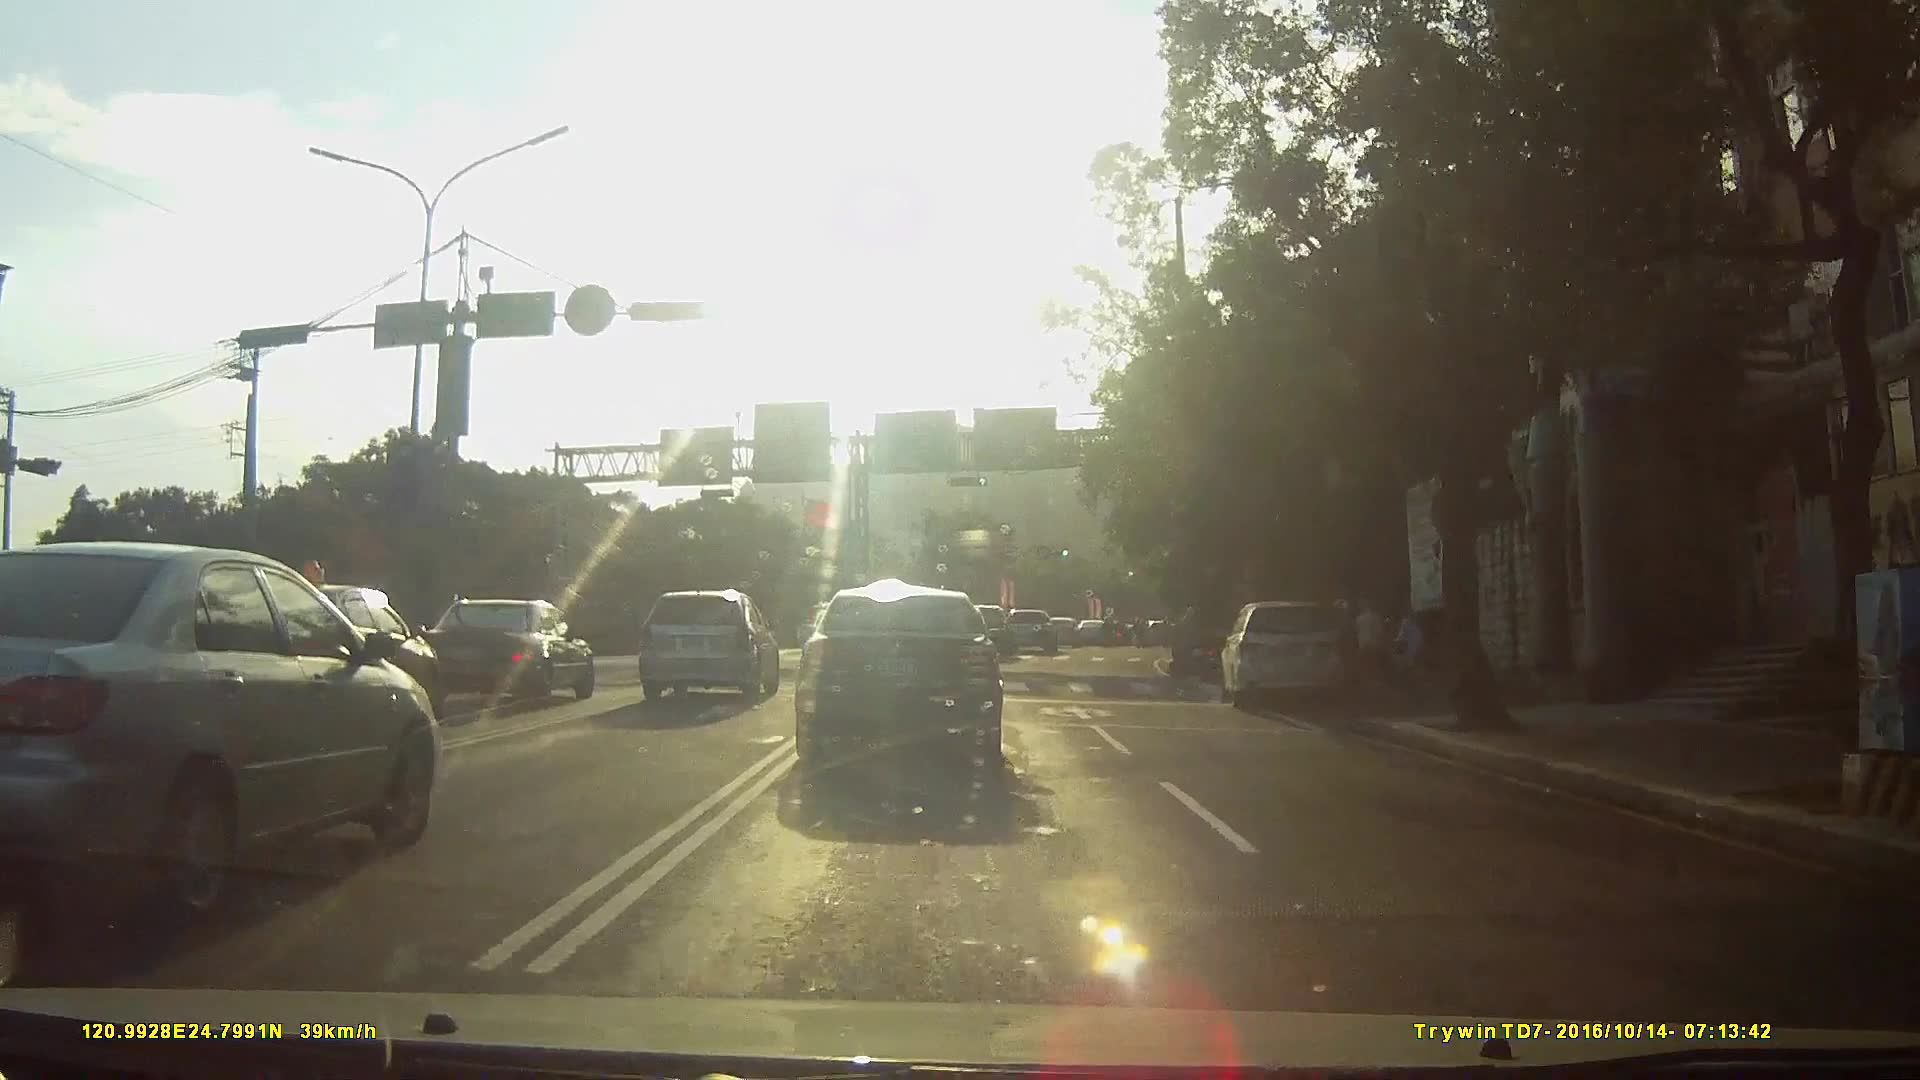pedestrian: (1353, 603, 1394, 665), (1399, 617, 1435, 684)
rider: (1170, 604, 1227, 683)
vehicle: (0, 540, 447, 923), (795, 593, 1027, 794), (405, 598, 601, 711), (1214, 600, 1368, 717), (637, 588, 782, 707), (959, 604, 1021, 662), (1006, 611, 1064, 657), (1050, 617, 1089, 649), (1080, 619, 1118, 647)
